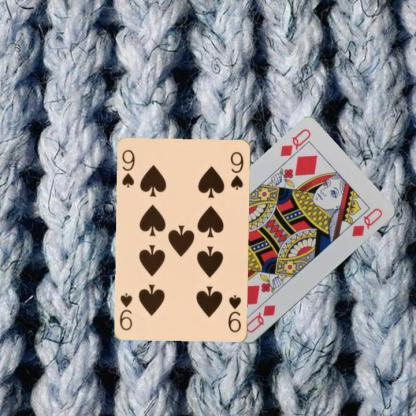9s: (225, 293, 243, 334), (120, 148, 136, 190)
Qd: (278, 126, 312, 166), (242, 302, 276, 335)
